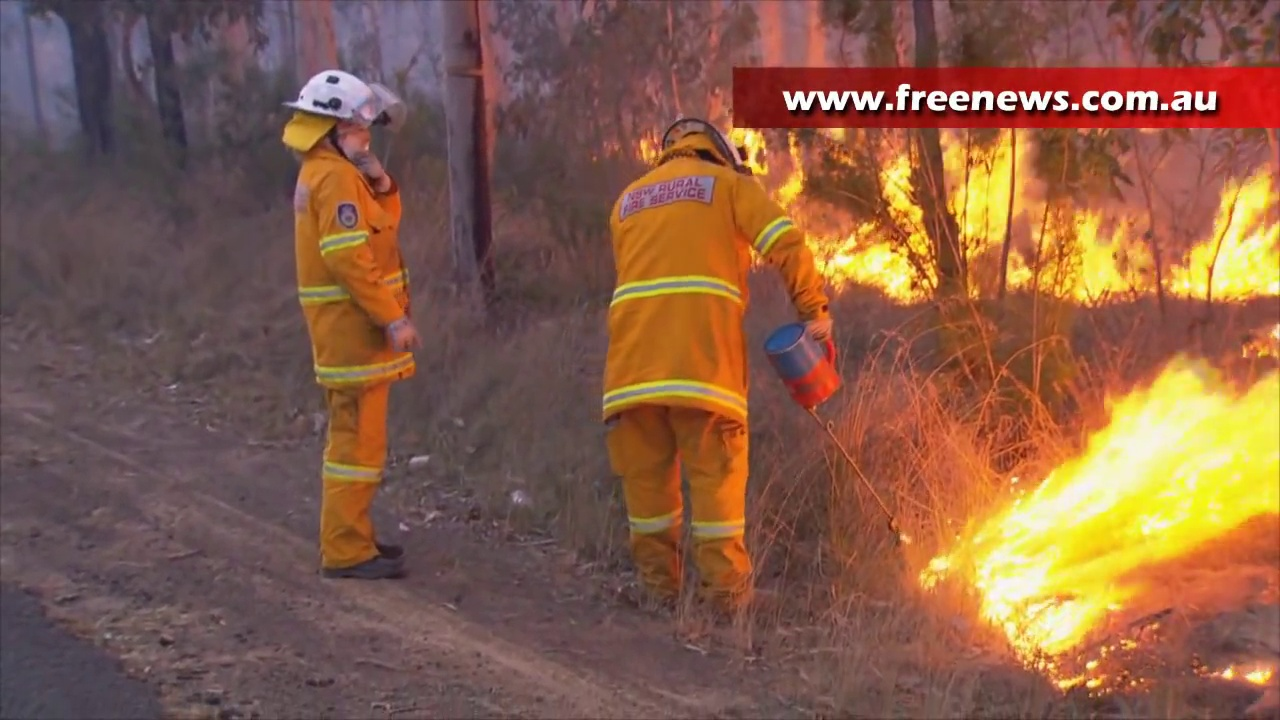fire: (960, 348, 1280, 668), (817, 135, 1024, 301), (1164, 164, 1280, 302), (1031, 193, 1140, 302), (726, 127, 765, 171)
